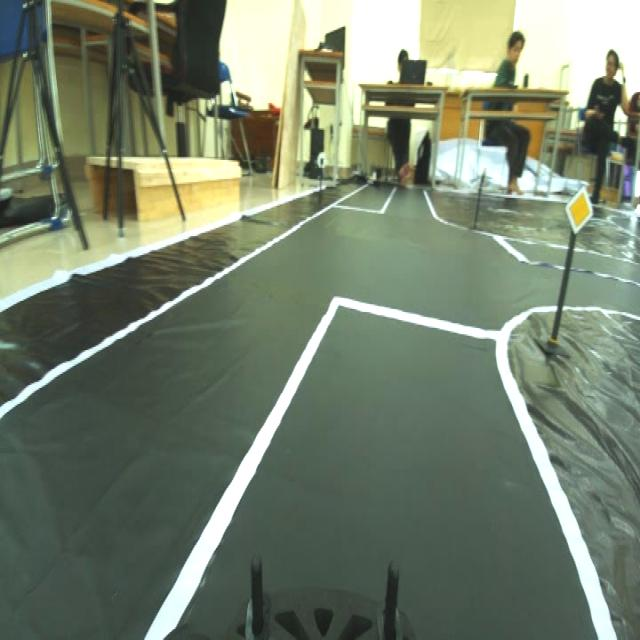priority: (560, 183, 594, 237)
